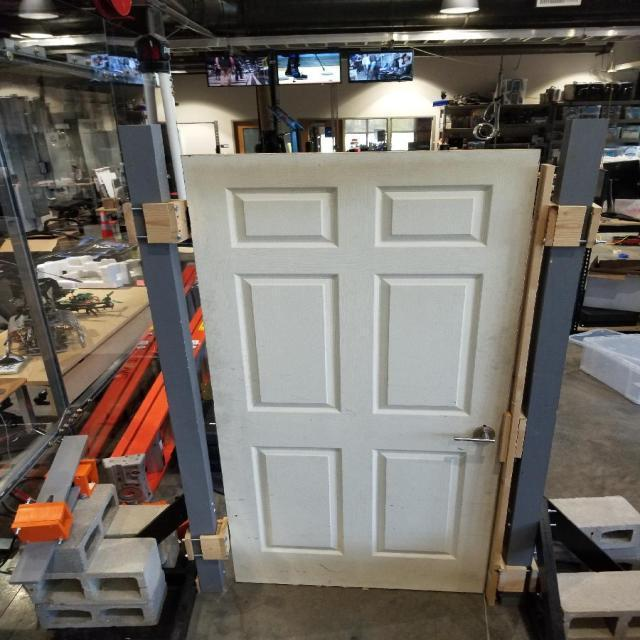door: (175, 146, 545, 596), (448, 423, 499, 448)
